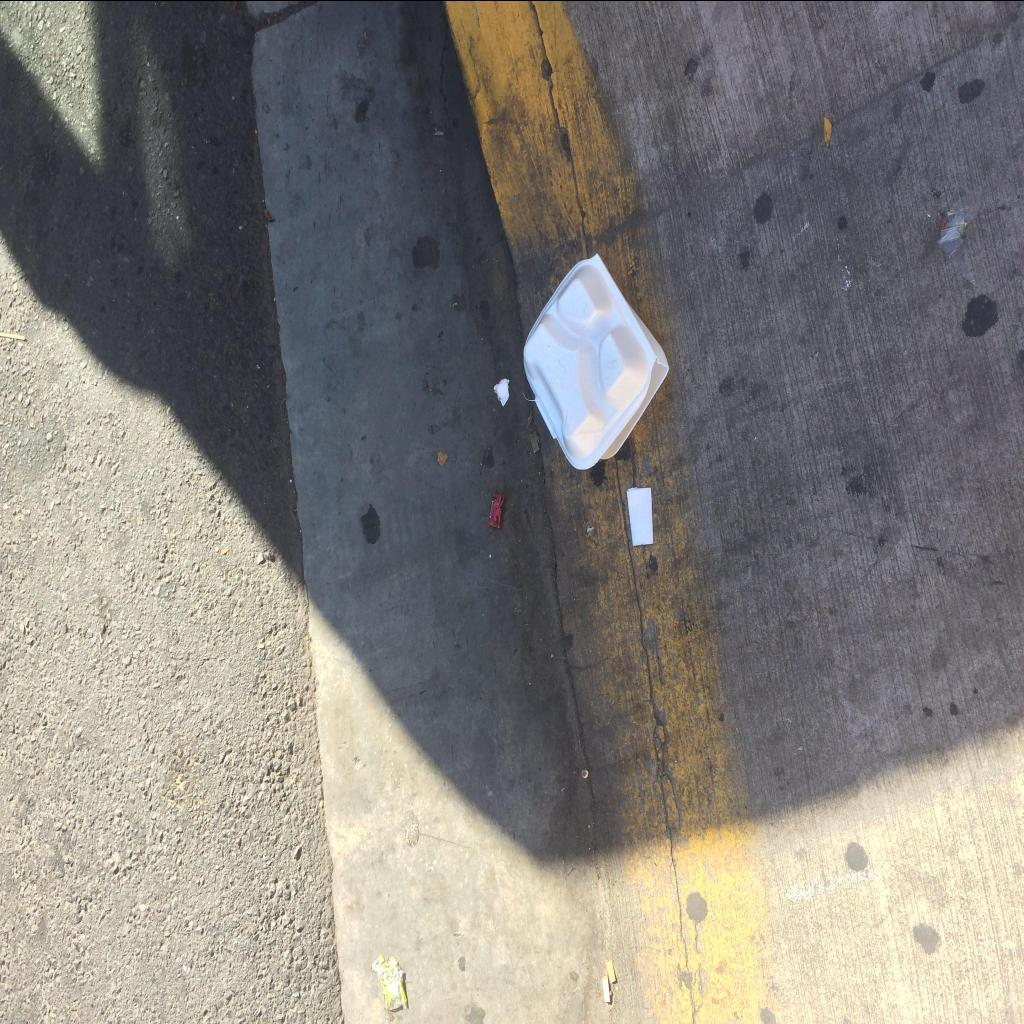Cigarette: (606, 957, 617, 983), (602, 973, 610, 1001)
Other plastic: (488, 492, 504, 528)
Plastic film: (940, 184, 982, 286)
Unlabeled litter: (626, 487, 654, 545), (494, 378, 510, 406)
